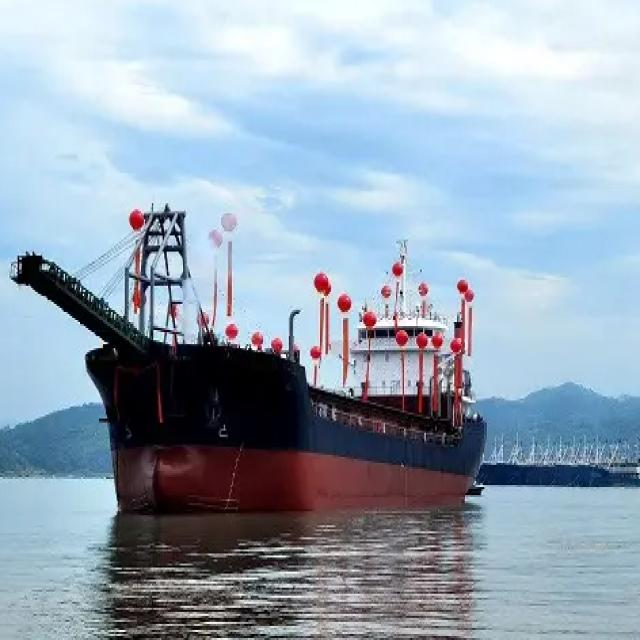cargoship: (26, 166, 502, 532)
